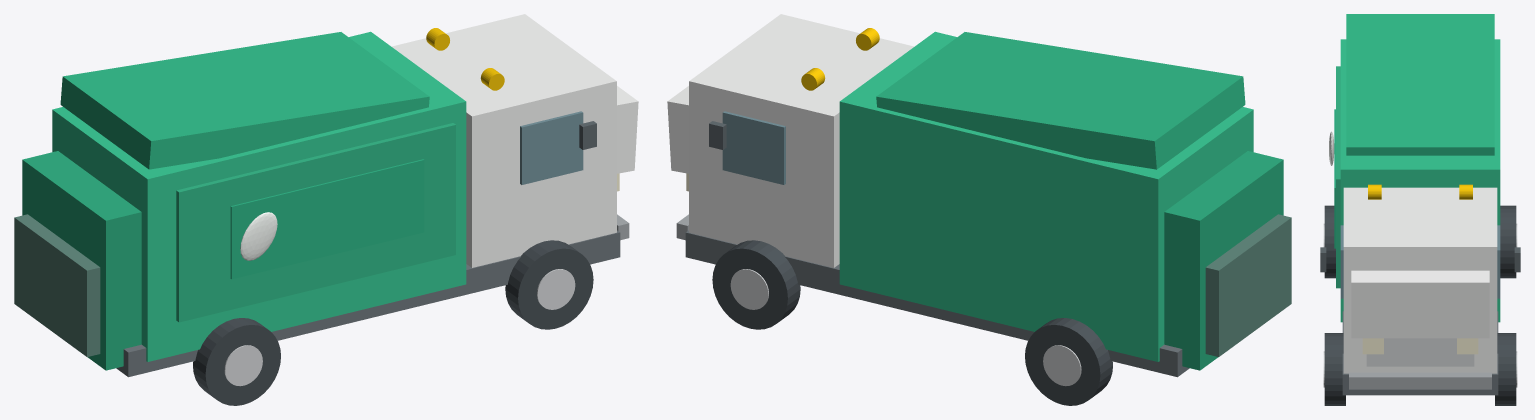
Rendered from waste-truck.glb.
The picture shows the model from 3 angles, left to right: view 1: azimuth 30°, elevation 25°; view 2: azimuth 150°, elevation 25°; view 3: azimuth 270°, elevation 25°; orthographic projection. The views are drawn at different scales.
Parts seen in each view (by area): view 1: BodyTop, Cab, Body, BodySidePanel, BrandPanel, RearLoader, RearBlade, Chassis, Wheel_FL, Wheel_RL, SideWindowL, CabNose (+3 smaller); view 2: Body, BodyTop, Cab, RearLoader, RearBlade, Chassis, Wheel_FR, Wheel_RR, SideWindowR, CabNose, Wheel_RR_Hub, Wheel_FR_Hub; view 3: BodyTop, Cab, CabNose, Body, FrontGrille, FrontBumper, Chassis, Wheel_FL, Wheel_FR, Wheel_RR, BodySidePanel, Wheel_RL (+7 smaller).
Boxes of the visible parts, x1,y1,x2,y2 form: BodyTop: [60, 32, 429, 169]; Cab: [392, 14, 616, 267]; Body: [52, 31, 466, 361]; BodySidePanel: [176, 123, 455, 322]; BrandPanel: [230, 159, 424, 279]; RearLoader: [22, 151, 141, 370]; RearBlade: [14, 214, 100, 356]; Chassis: [116, 230, 620, 377]; Wheel_FL: [505, 240, 593, 329]; Wheel_RL: [193, 318, 280, 405]; SideWindowL: [520, 111, 583, 184]; CabNose: [617, 86, 638, 173]; Body: [839, 31, 1253, 361]; BodyTop: [876, 32, 1245, 169]; Cab: [689, 14, 913, 267]; RearLoader: [1164, 151, 1283, 370]; RearBlade: [1205, 214, 1291, 356]; Chassis: [685, 230, 1189, 377]; Wheel_FR: [712, 240, 800, 329]; Wheel_RR: [1025, 318, 1112, 405]; SideWindowR: [722, 111, 785, 184]; CabNose: [667, 86, 688, 173]; Wheel_RR_Hub: [1043, 345, 1081, 386]; Wheel_FR_Hub: [730, 269, 768, 309]; BodyTop: [1346, 14, 1494, 155]; Cab: [1343, 187, 1497, 373]; CabNose: [1351, 270, 1489, 338]; Body: [1340, 39, 1500, 322]; FrontGrille: [1366, 338, 1474, 366]; FrontBumper: [1349, 372, 1491, 389]; Chassis: [1342, 311, 1498, 395]; Wheel_FL: [1324, 333, 1345, 405]; Wheel_FR: [1495, 333, 1516, 405]; Wheel_RR: [1500, 205, 1516, 278]; BodySidePanel: [1336, 66, 1340, 288]; Wheel_RL: [1324, 205, 1335, 278].
Size of the model in its own units: 6.94 by 3.32 by 2.64.
